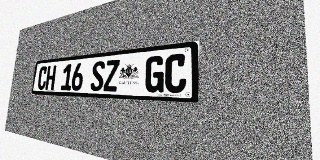1: (61, 64, 73, 90)
6: (71, 63, 84, 91)
C: (164, 53, 187, 93), (37, 66, 48, 90)
G: (144, 55, 165, 93)
H: (45, 65, 56, 90)
S: (90, 61, 105, 91)
Z: (103, 59, 120, 92)
